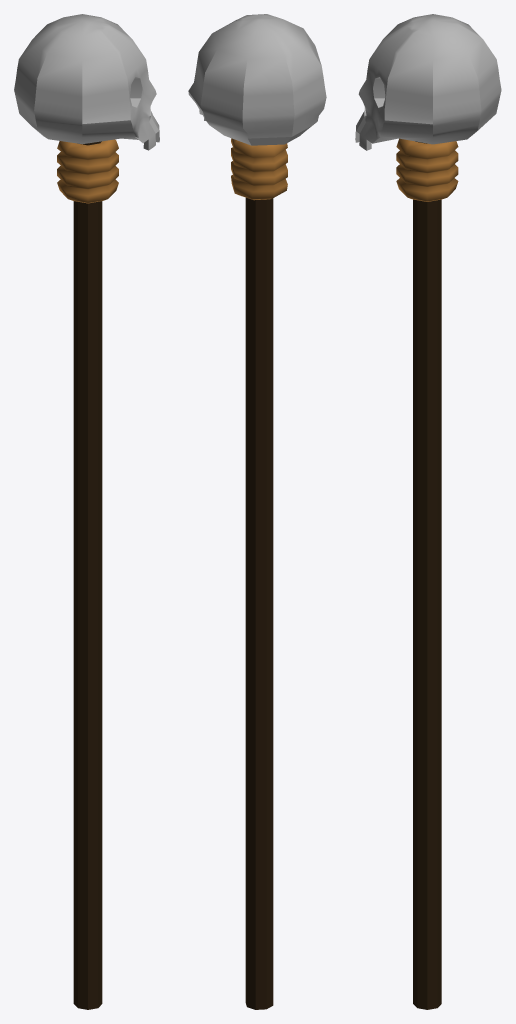
Rendered from Navigation_Sign_Pole.fbx.
The picture shows the model from 3 angles, left to right: view 1: azimuth 90°, elevation 25°; view 2: azimuth 210°, elevation 25°; view 3: azimuth 270°, elevation 25°; orthographic projection.
Parts seen in each view (by area): view 1: polySurface89; view 2: polySurface89; view 3: polySurface89.
Boxes of the visible parts, x1,y1,x2,y2 form: polySurface89: (14, 14, 159, 1009); polySurface89: (188, 14, 326, 1009); polySurface89: (355, 14, 501, 1009).
Bounding box in the file's own units: 44.49 × 353 × 47.44.
